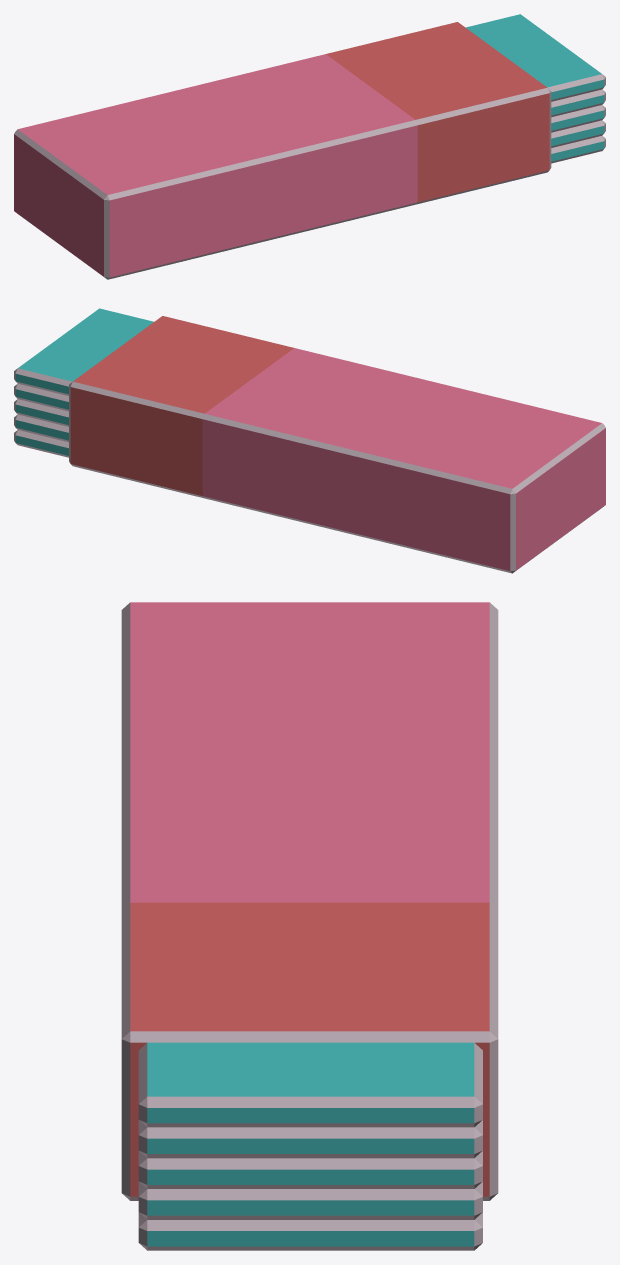
File: bubbleGUM3.fbx
3 renders of one model, top to bottom at view 1: azimuth 30°, elevation 25°; view 2: azimuth 150°, elevation 25°; view 3: azimuth 270°, elevation 25°, orthographic. The views are drawn at different scales.
Visible parts, largest first — view 1: polySurface61, polySurface60, Test14, Test12, Test11, Test9, Test7, Test3, Test5, Test8, Test4, Test10 (+1 smaller); view 2: polySurface61, polySurface60, Test14, Test12, Test11, Test9, Test7, Test3, Test5, Test4, Test10, Test6 (+1 smaller); view 3: polySurface61, polySurface60, Test12, Test14, Test11, Test5, Test9, Test7, Test3, Test6, Test4, Test10 (+1 smaller).
Part boxes in pixels (x1=…): polySurface61: x1=14, y1=54, x2=417, y2=277; polySurface60: x1=326, y1=22, x2=549, y2=202; Test14: x1=14, y1=87, x2=551, y2=279; Test12: x1=466, y1=14, x2=604, y2=99; Test11: x1=547, y1=74, x2=605, y2=101; Test9: x1=551, y1=89, x2=605, y2=117; Test7: x1=551, y1=105, x2=605, y2=132; Test3: x1=551, y1=136, x2=605, y2=163; Test5: x1=551, y1=120, x2=605, y2=147; Test8: x1=551, y1=110, x2=604, y2=130; Test4: x1=551, y1=141, x2=604, y2=161; Test10: x1=551, y1=95, x2=604, y2=115; polySurface61: x1=202, y1=348, x2=605, y2=570; polySurface60: x1=70, y1=316, x2=293, y2=495; Test14: x1=69, y1=381, x2=605, y2=573; Test12: x1=15, y1=308, x2=153, y2=394; Test11: x1=14, y1=368, x2=71, y2=395; Test9: x1=14, y1=383, x2=68, y2=411; Test7: x1=14, y1=399, x2=68, y2=426; Test3: x1=14, y1=430, x2=68, y2=457; Test5: x1=14, y1=414, x2=68, y2=442; Test4: x1=15, y1=435, x2=68, y2=455; Test10: x1=15, y1=389, x2=68, y2=409; Test6: x1=15, y1=420, x2=68, y2=440; polySurface61: x1=130, y1=602, x2=489, y2=902; polySurface60: x1=130, y1=902, x2=489, y2=1196; Test12: x1=147, y1=1042, x2=474, y2=1123; Test14: x1=121, y1=602, x2=498, y2=1200; Test11: x1=138, y1=1043, x2=482, y2=1127; Test5: x1=138, y1=1181, x2=482, y2=1219; Test9: x1=138, y1=1120, x2=482, y2=1158; Test7: x1=138, y1=1151, x2=482, y2=1188; Test3: x1=138, y1=1212, x2=482, y2=1250; Test6: x1=147, y1=1200, x2=474, y2=1215; Test4: x1=147, y1=1231, x2=474, y2=1246; Test10: x1=147, y1=1138, x2=474, y2=1153.
Size of the model in its own units: 192 by 30.68 by 61.78.
